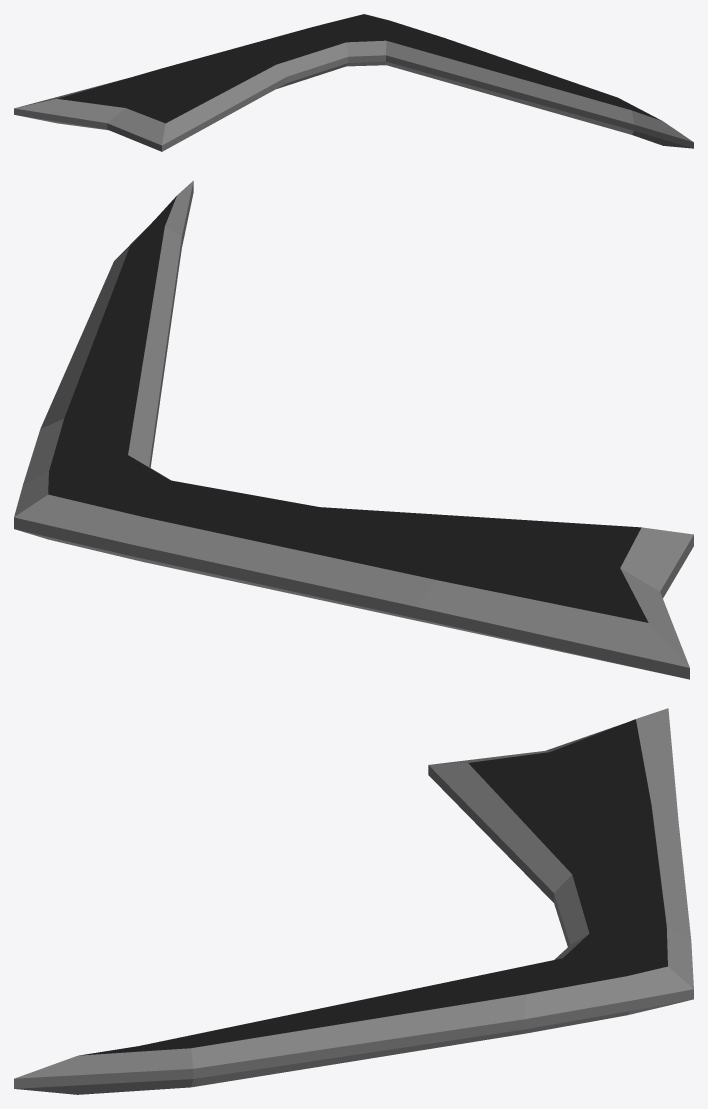
File: boomerang model.fbx
The picture shows the model from 3 angles, top to bottom: view 1: azimuth 30°, elevation 25°; view 2: azimuth 150°, elevation 25°; view 3: azimuth 270°, elevation 25°; orthographic projection. The views are drawn at different scales.
Parts seen in each view (by area): view 1: boomerang_mesh; view 2: boomerang_mesh; view 3: boomerang_mesh.
Part boxes in pixels (x1=…): boomerang_mesh: x1=14, y1=14, x2=693, y2=151; boomerang_mesh: x1=14, y1=180, x2=693, y2=679; boomerang_mesh: x1=14, y1=708, x2=693, y2=1094.
Size of the model in its own units: 91.15 by 4.5 by 70.67.
Materials: 1 (1 with a texture image).
